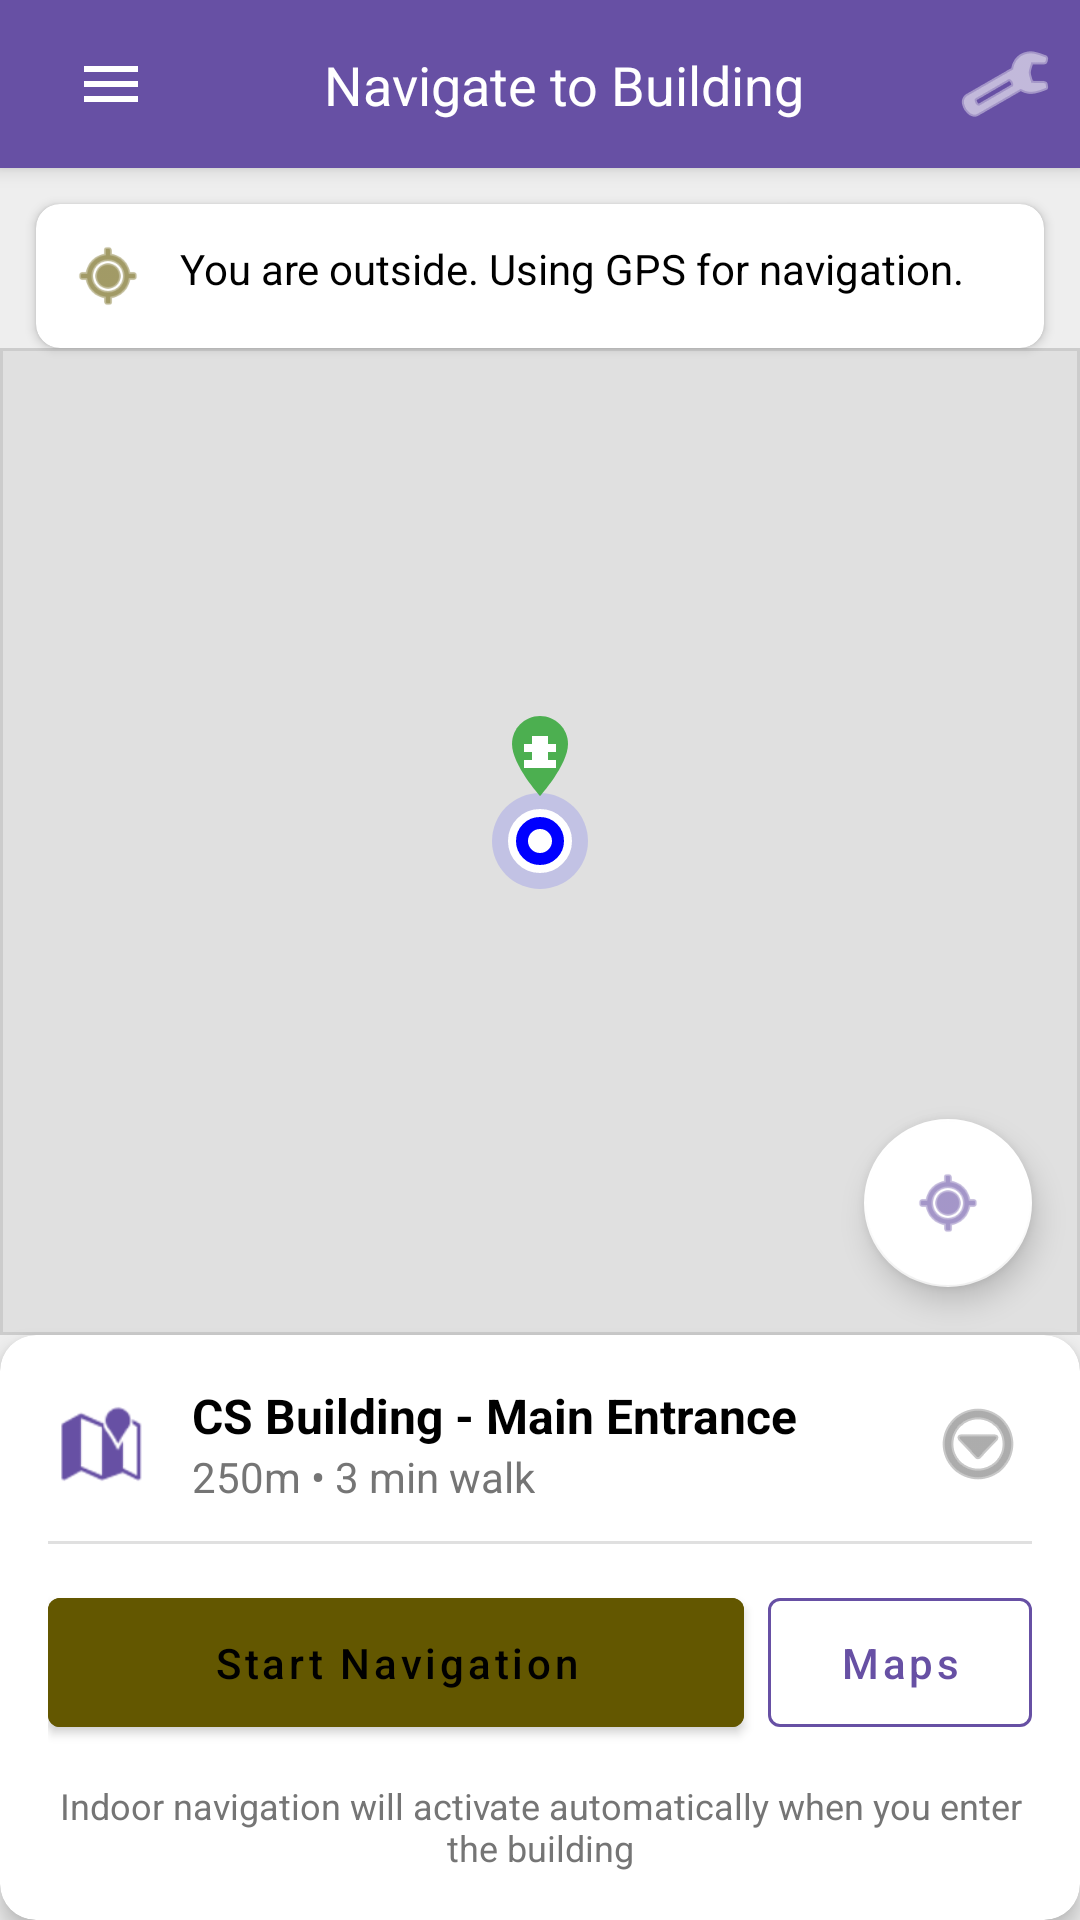

Locate icon controls on the screen. Image size 1080 x 1920, boxes as [x1, y1, x2, y2].
building marker: [511, 716, 569, 804]
Direction options: [943, 1409, 1013, 1479]
map: [61, 1407, 142, 1481]
Menu: [84, 66, 138, 102]
My location: [864, 1119, 1032, 1287]
Settings: [962, 51, 1048, 117]
user location: [492, 793, 588, 889]
